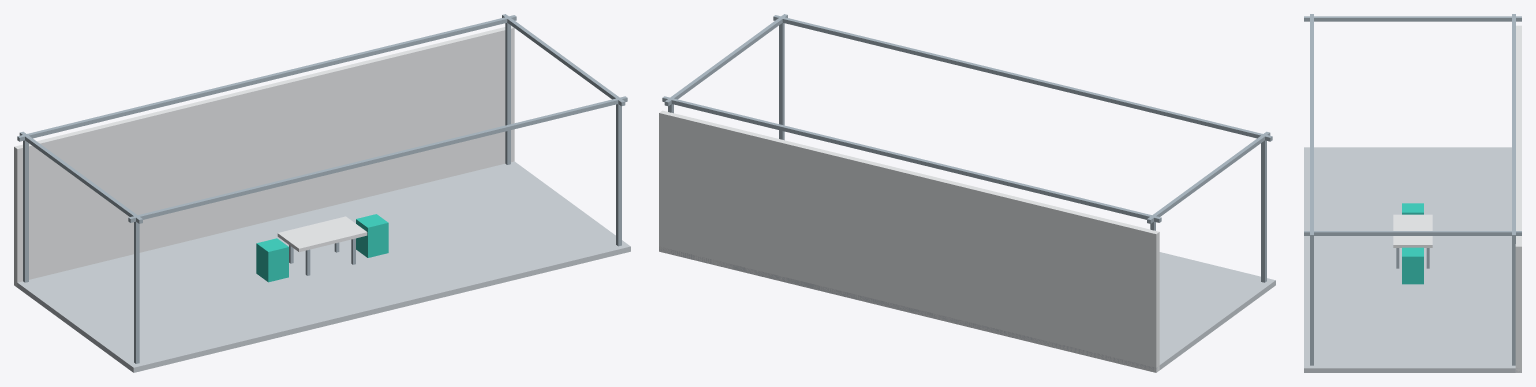
The picture shows the model from 3 angles, left to right: view 1: azimuth 30°, elevation 25°; view 2: azimuth 150°, elevation 25°; view 3: azimuth 270°, elevation 25°; orthographic projection. The views are drawn at different scales.
Parts seen in each view (by area): view 1: Exhibition Booth Concept; view 2: Exhibition Booth Concept; view 3: Exhibition Booth Concept.
Boxes of the visible parts, bbox=[...] form: Exhibition Booth Concept: bbox=[14, 14, 630, 372]; Exhibition Booth Concept: bbox=[659, 14, 1275, 372]; Exhibition Booth Concept: bbox=[1304, 14, 1521, 372].
Bounding box in the file's own units: 12 × 3.49 × 5.
